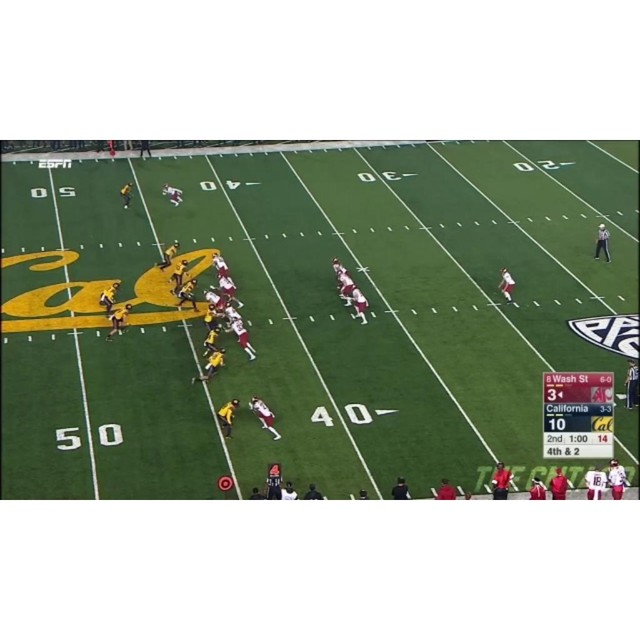american-football-player: (249, 395, 282, 441), (227, 315, 257, 361), (191, 348, 227, 385), (105, 303, 134, 343), (216, 398, 240, 439), (216, 273, 243, 309), (98, 280, 123, 316), (348, 286, 371, 325), (498, 266, 518, 307), (176, 278, 199, 312), (157, 240, 181, 272), (169, 259, 189, 296), (336, 268, 355, 305), (202, 325, 223, 357), (222, 303, 244, 329), (162, 183, 183, 207), (211, 253, 230, 279), (203, 288, 223, 312), (119, 181, 134, 210)
referee: (592, 222, 613, 264), (624, 358, 640, 410)
